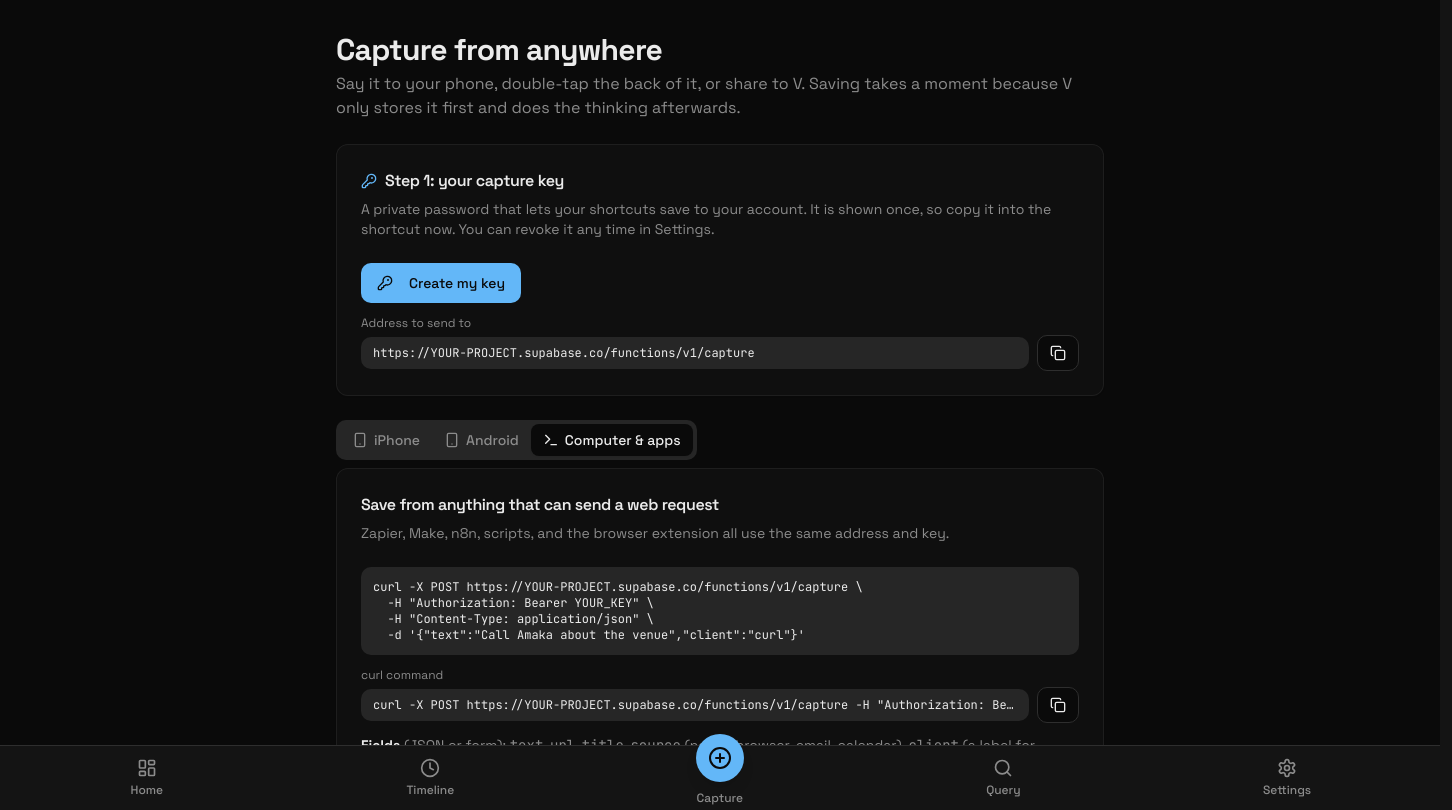
Test: Quick capture setup guide › shows the address immediately and creates a key on request, shown once
This screenshot has width=1452, height=810.
Expected: the text "https://YOUR-PROJECT.supabase.co/functions/v1/capture" is shown, 361,337 -> 1029,369
Expected: the text "mm_secret_token_123" is not shown
Click the button "Create my key".
click(441, 283)  # box 361,263 -> 521,303
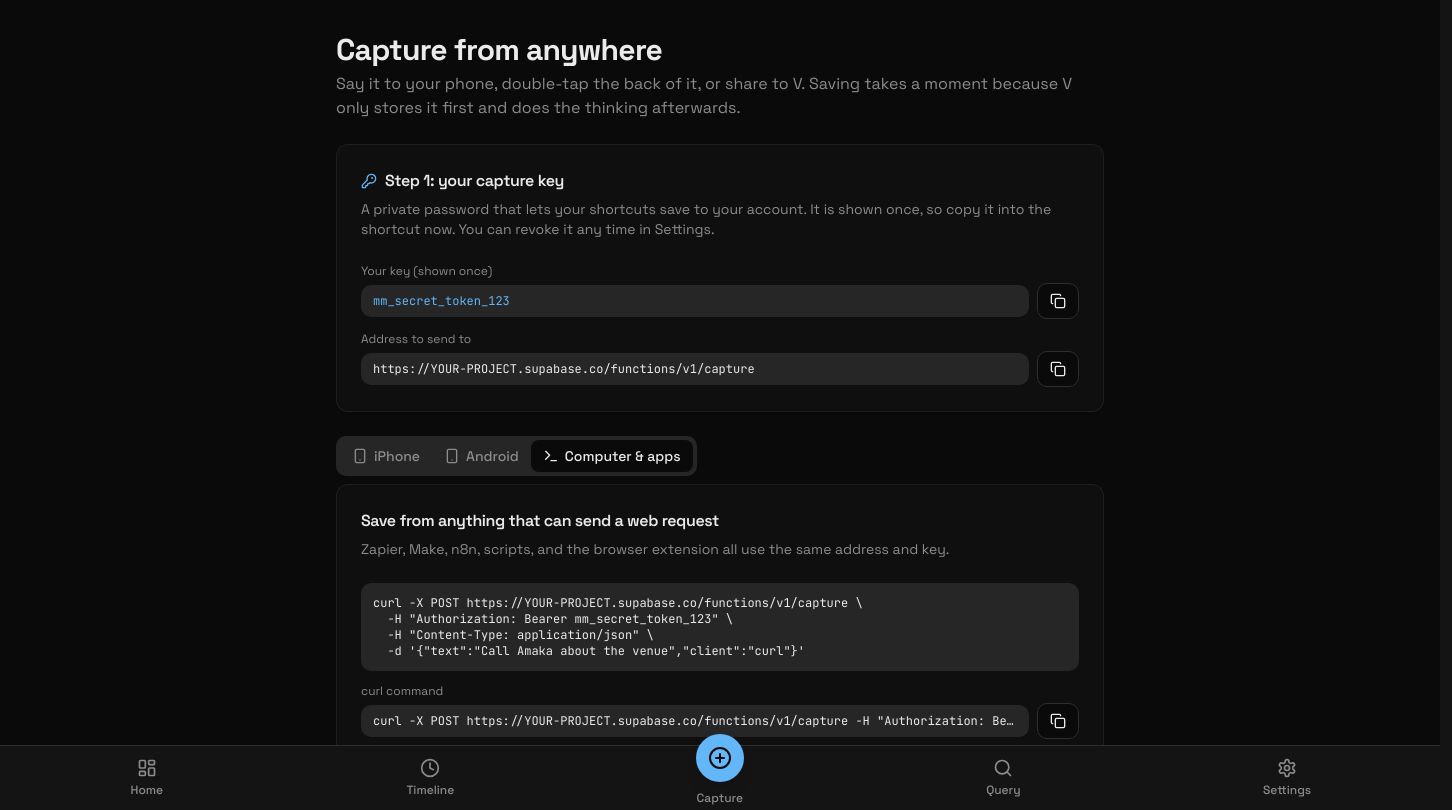
Expected: the text "mm_secret_token_123" is shown, 361,285 -> 1029,317
Expected: the button "Create my key" is gone
